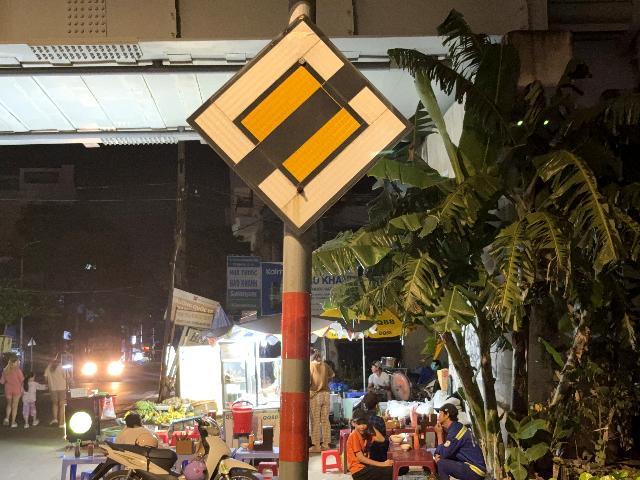het-duong-uu-tien: (185, 13, 416, 238)
